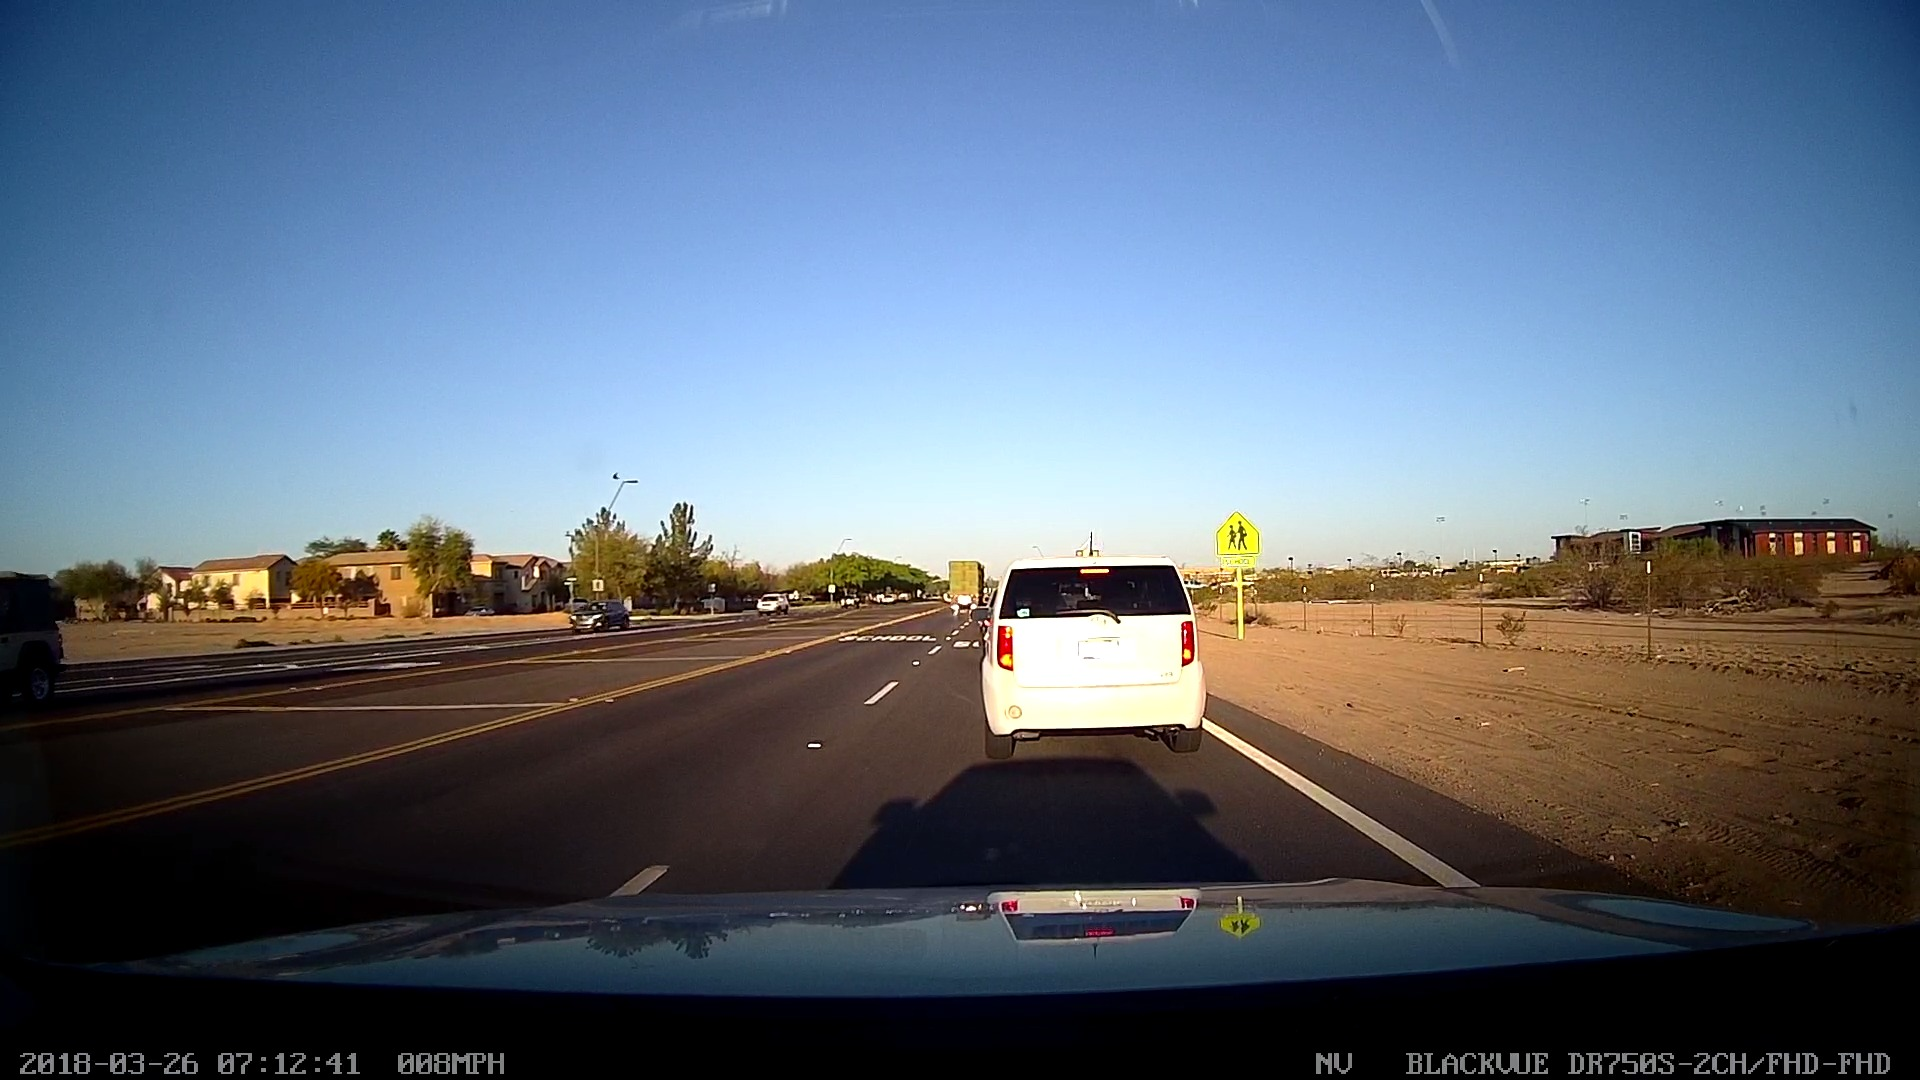plate: (1063, 627, 1134, 670)
vehicle: (977, 551, 1213, 768), (559, 589, 632, 638), (938, 551, 986, 621), (753, 585, 791, 619)
